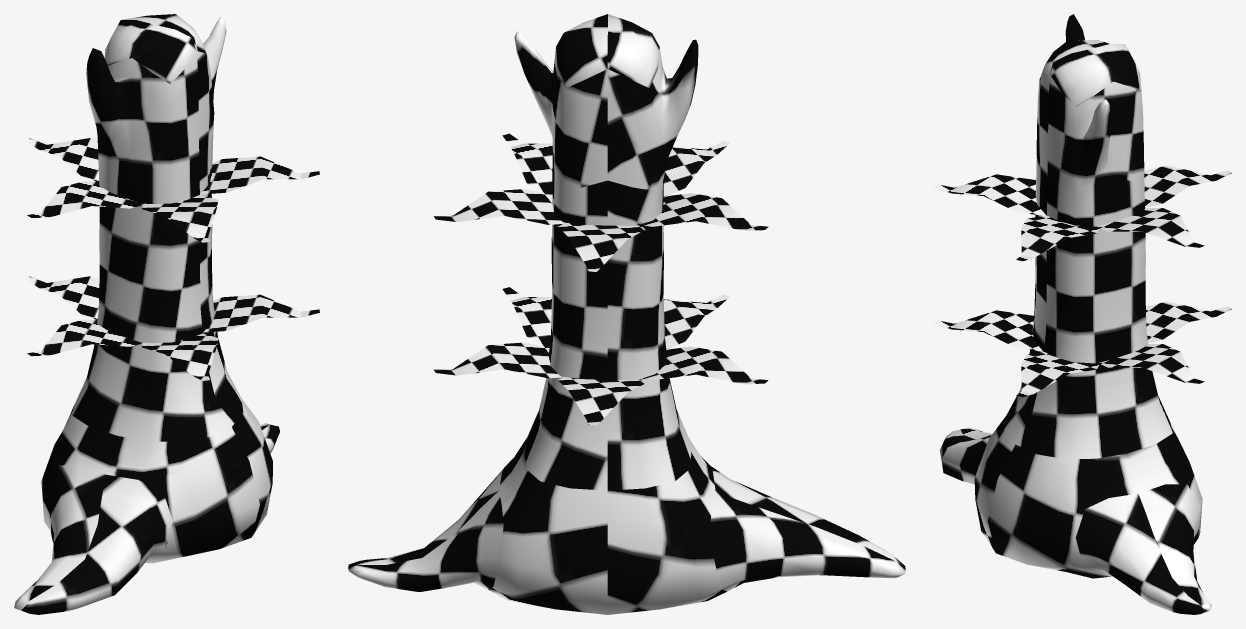
Rendered from Tree.fbx.
The picture shows the model from 3 angles, left to right: view 1: azimuth 30°, elevation 25°; view 2: azimuth 150°, elevation 25°; view 3: azimuth 270°, elevation 25°; orthographic projection. The views are drawn at different scales.
Parts seen in each view (by area): view 1: polySurface9, polySurface18, polySurface14; view 2: polySurface9, polySurface18, polySurface14; view 3: polySurface9, polySurface18, polySurface14.
Part boxes in pixels (left/top/right/bottom): polySurface9: left=14, top=14, right=279, bottom=614; polySurface18: left=25, top=138, right=319, bottom=242; polySurface14: left=25, top=276, right=319, bottom=380; polySurface9: left=348, top=14, right=905, bottom=614; polySurface18: left=433, top=133, right=768, bottom=271; polySurface14: left=433, top=287, right=768, bottom=425; polySurface9: left=939, top=14, right=1211, bottom=614; polySurface18: left=934, top=165, right=1231, bottom=261; polySurface14: left=934, top=301, right=1231, bottom=397.
Bounding box in the file's own units: 2.4 × 3.02 × 1.64.
